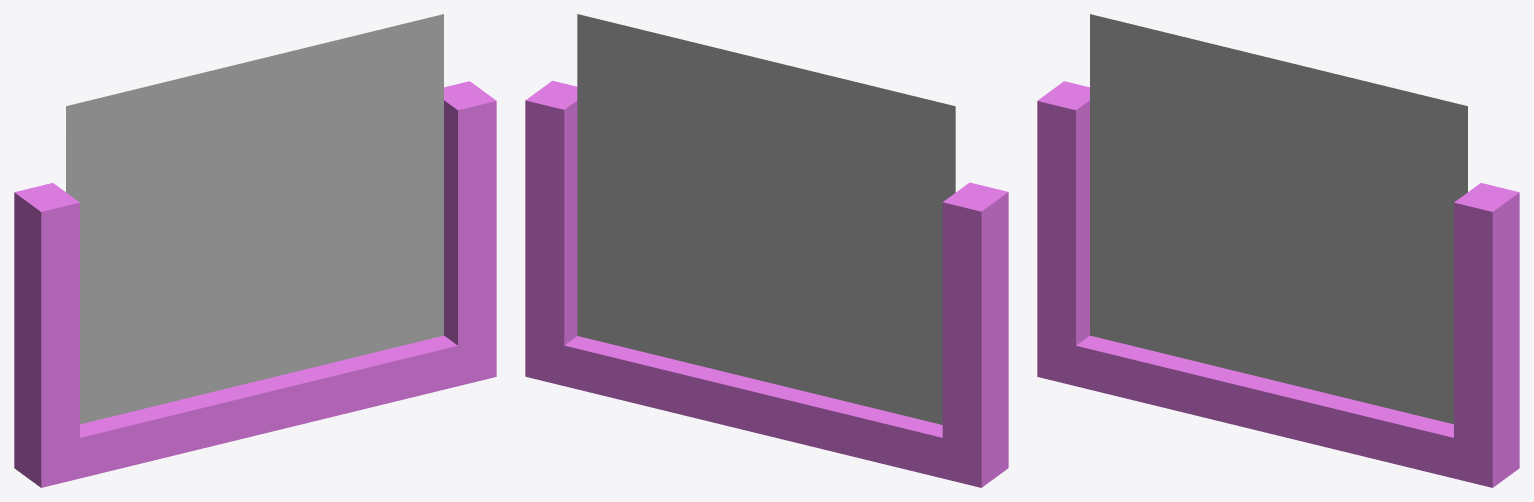
The model's file is bonus.fbx.
3 renders of one model, left to right at view 1: azimuth 30°, elevation 25°; view 2: azimuth 150°, elevation 25°; view 3: azimuth 330°, elevation 25°, orthographic.
Visible parts, largest first — view 1: bonus; view 2: bonus; view 3: bonus.
Boxes of the visible parts, bbox=[...] form: bonus: bbox=[14, 14, 496, 487]; bonus: bbox=[525, 14, 1008, 487]; bonus: bbox=[1037, 14, 1519, 487].
Bounding box in the file's own units: 293 × 223 × 30.11.
